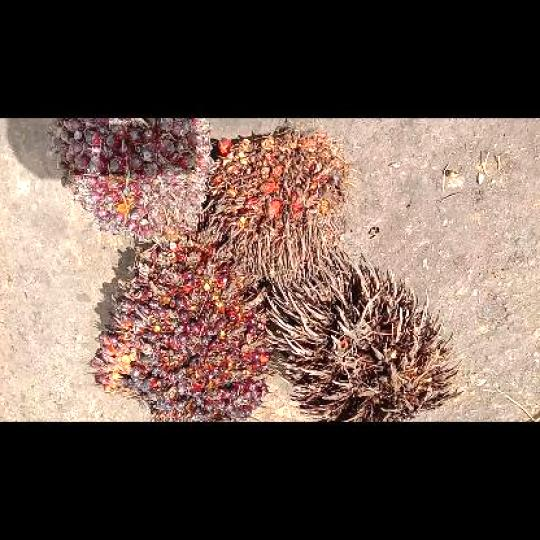kurang masak: (45, 118, 217, 244)
masak: (91, 233, 275, 420)
terlalu masak: (194, 124, 354, 281)
